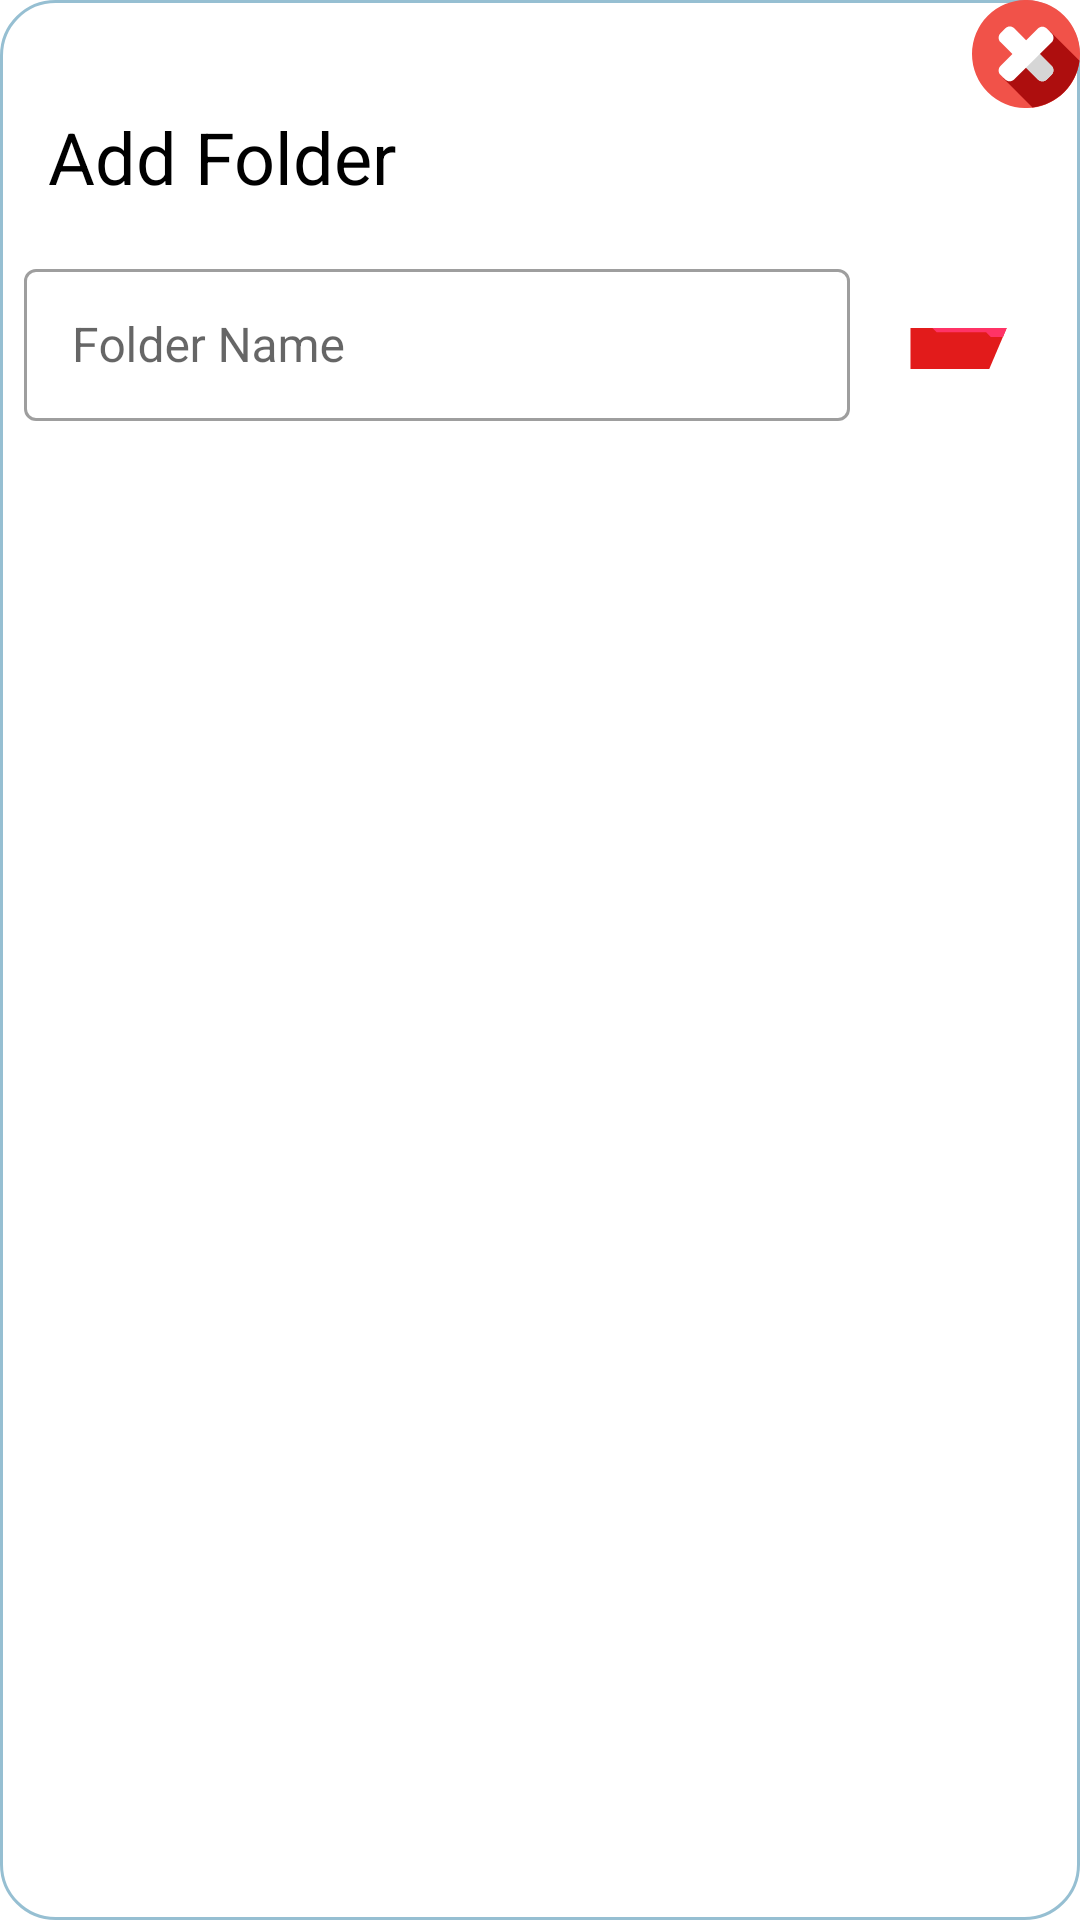

Where icons sit on this 1080px x 1920px app screen, as [left=x1, top=y1, right=x2, bottom=y2]:
cancel: [left=972, top=0, right=1080, bottom=108]
save folder: [left=910, top=328, right=1007, bottom=369]
